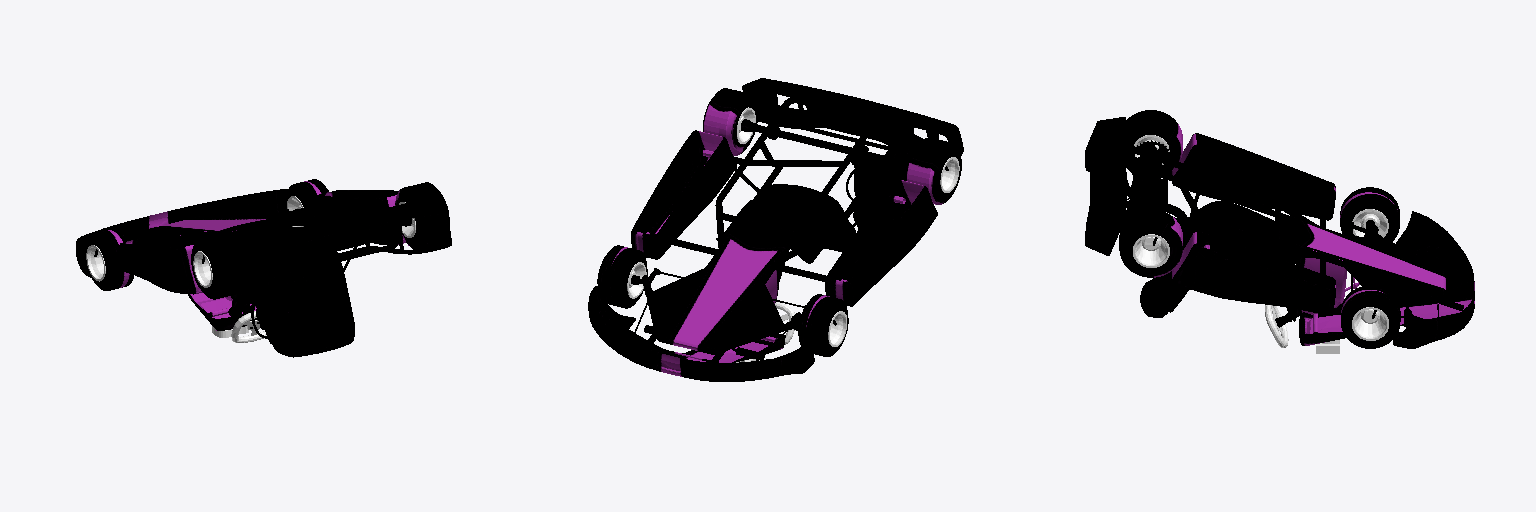
The picture shows the model from 3 angles: view 1: azimuth 30°, elevation 25°; view 2: azimuth 150°, elevation 25°; view 3: azimuth 270°, elevation 25°; orthographic projection.
Parts seen in each view (by area): view 1: Object.3, Object.2, Object.6, Object.7, Object.10, Object.11; view 2: Object.2, Object.3, Object.7, Object.11, Object.10, Object.6; view 3: Object.3, Object.2, Object.7, Object.11, Object.10, Object.8, Object.12, Object.6, Object.1.
Part boxes in pixels (x1,y1,x2,y2): Object.3: (76, 189, 451, 330); Object.2: (128, 205, 429, 357); Object.6: (236, 226, 395, 334); Object.7: (191, 182, 449, 299); Object.10: (85, 228, 133, 290); Object.11: (285, 179, 328, 207); Object.2: (631, 90, 938, 362); Object.3: (588, 78, 963, 381); Object.7: (703, 88, 961, 204); Object.11: (597, 245, 647, 308); Object.10: (798, 294, 848, 356); Object.6: (806, 106, 905, 229); Object.3: (1085, 117, 1474, 348); Object.2: (1096, 137, 1463, 337); Object.7: (1119, 110, 1182, 277); Object.11: (1341, 285, 1400, 348); Object.10: (1340, 187, 1399, 241); Object.8: (1133, 234, 1169, 267); Object.12: (1352, 307, 1388, 340); Object.6: (1097, 172, 1186, 228); Object.1: (1352, 209, 1388, 237).
Size of the model in its own units: 512 by 383 by 733.
Materials: 8 (6 with a texture image).